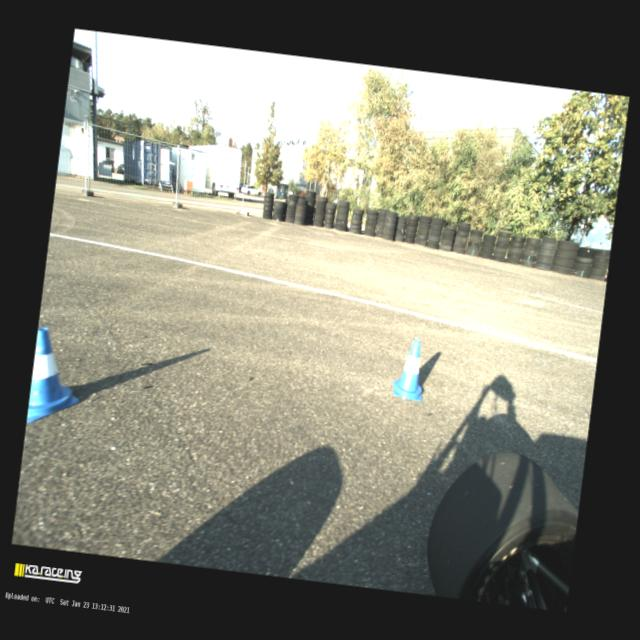blue_cone: (26, 326, 87, 428), (390, 336, 430, 402)
